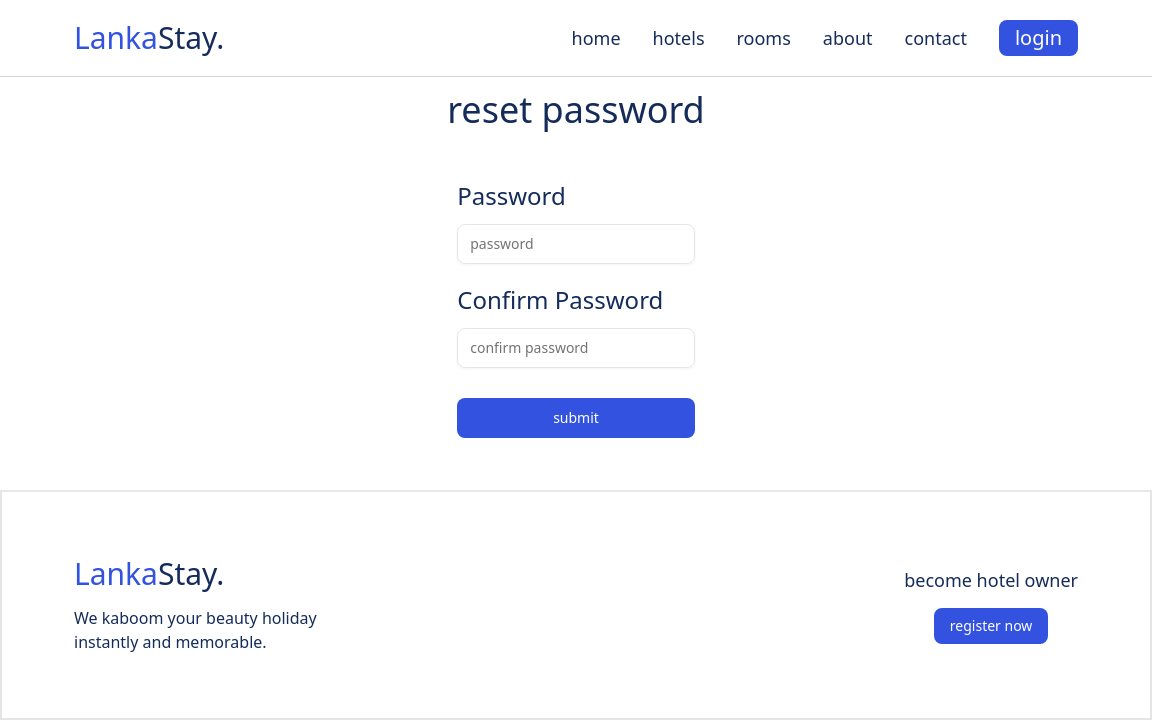
reset password page › should show validation errors for invalid password and confirm password
The width and height of the screenshot is (1152, 720).
Type "ccc" into the password field labelled "password". click: (576, 244)
box: left=457, top=224, right=695, bottom=264
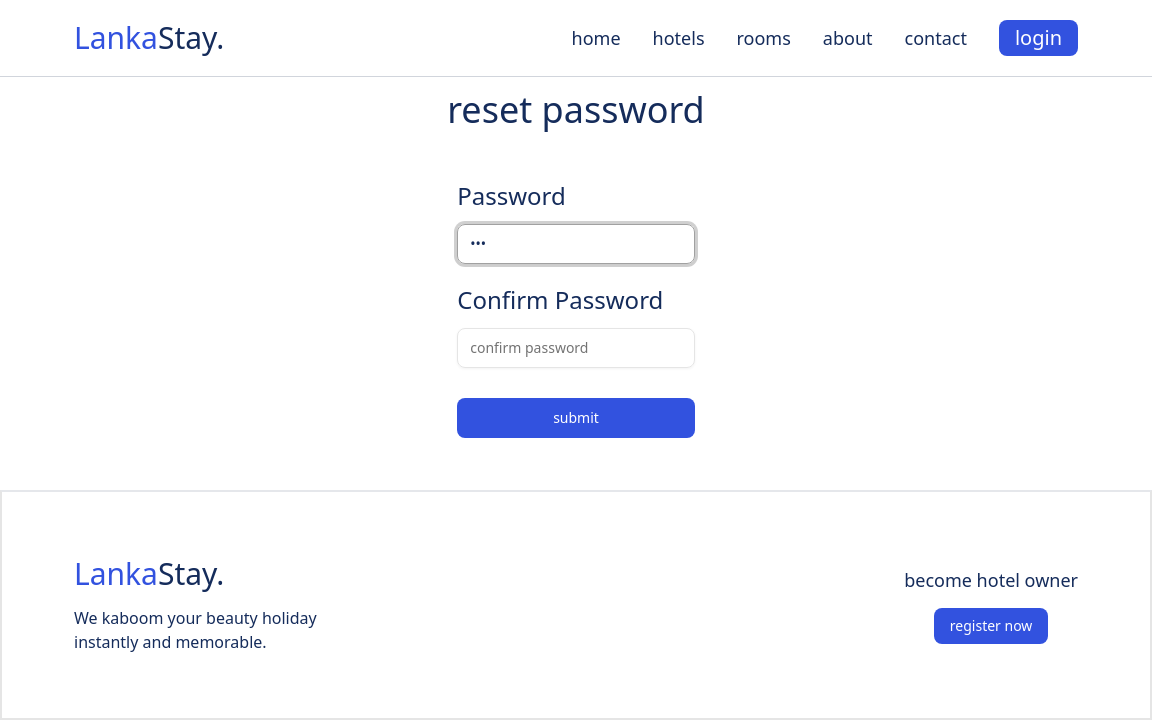
Type "ccccccc" into the password field labelled "confirm password". click: (576, 348)
box: left=457, top=328, right=695, bottom=368
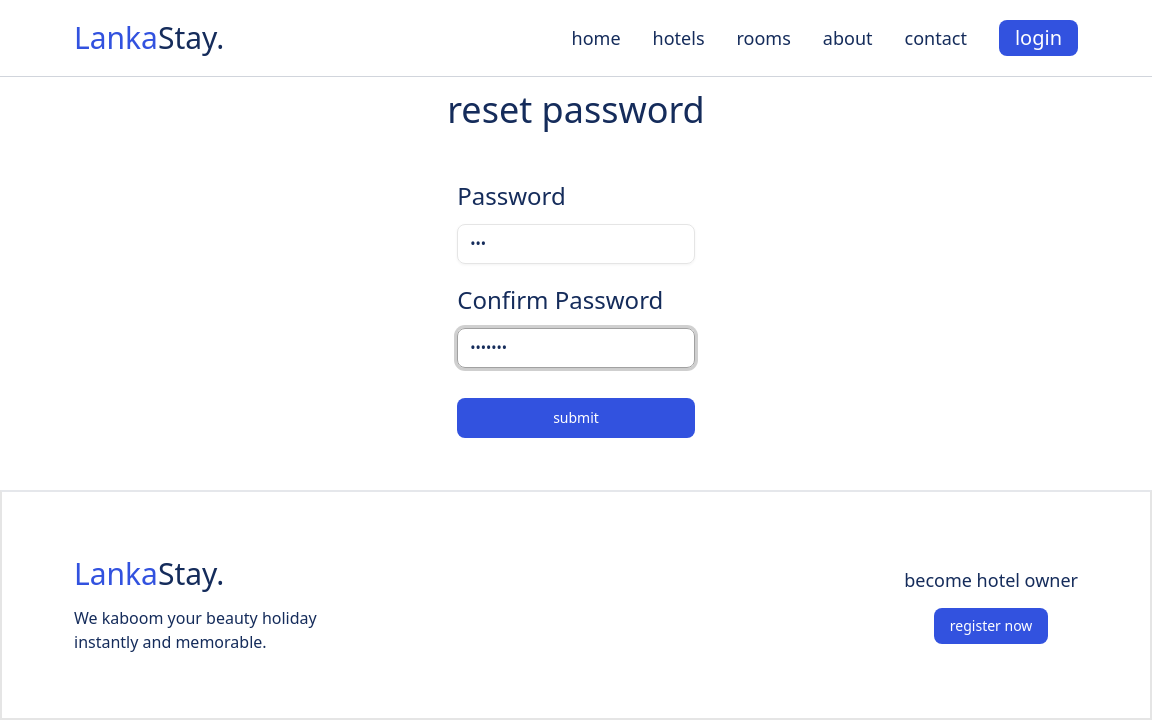
Click the button "submit". click: (576, 418)
box: left=457, top=398, right=695, bottom=438
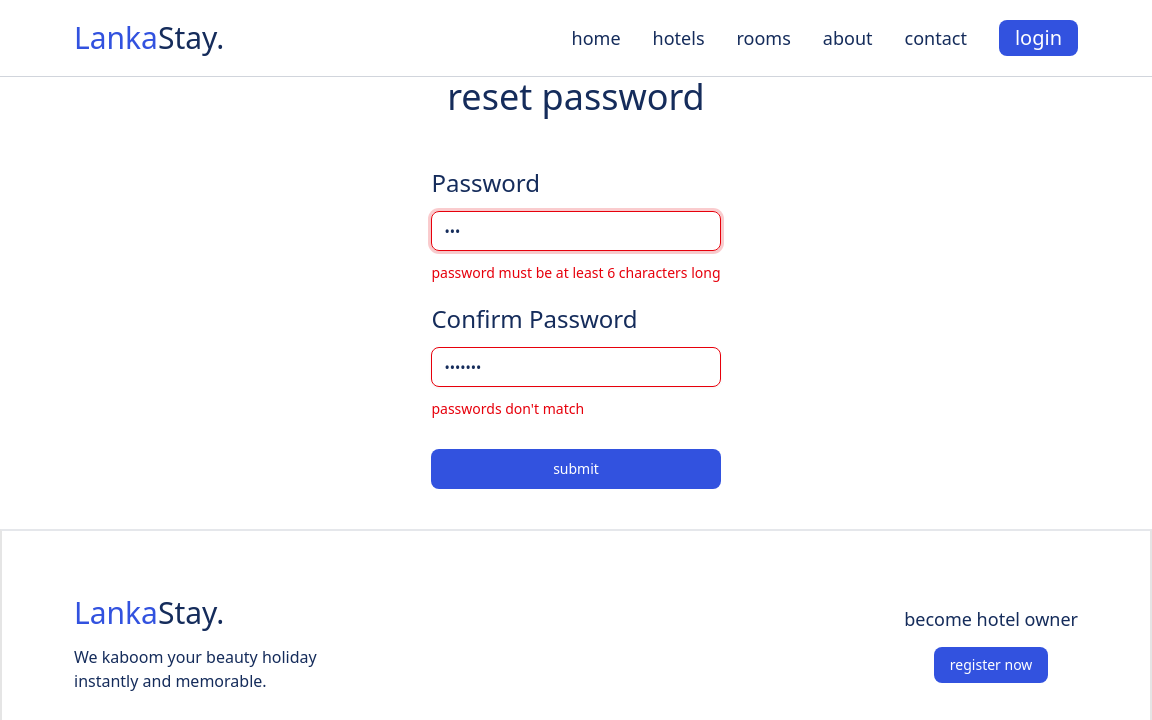
expect the text "password must be at least 6 characters long" is shown: met, box left=432, top=263, right=721, bottom=283
expect the text "passwords don't match" is shown: met, box left=432, top=399, right=584, bottom=418
